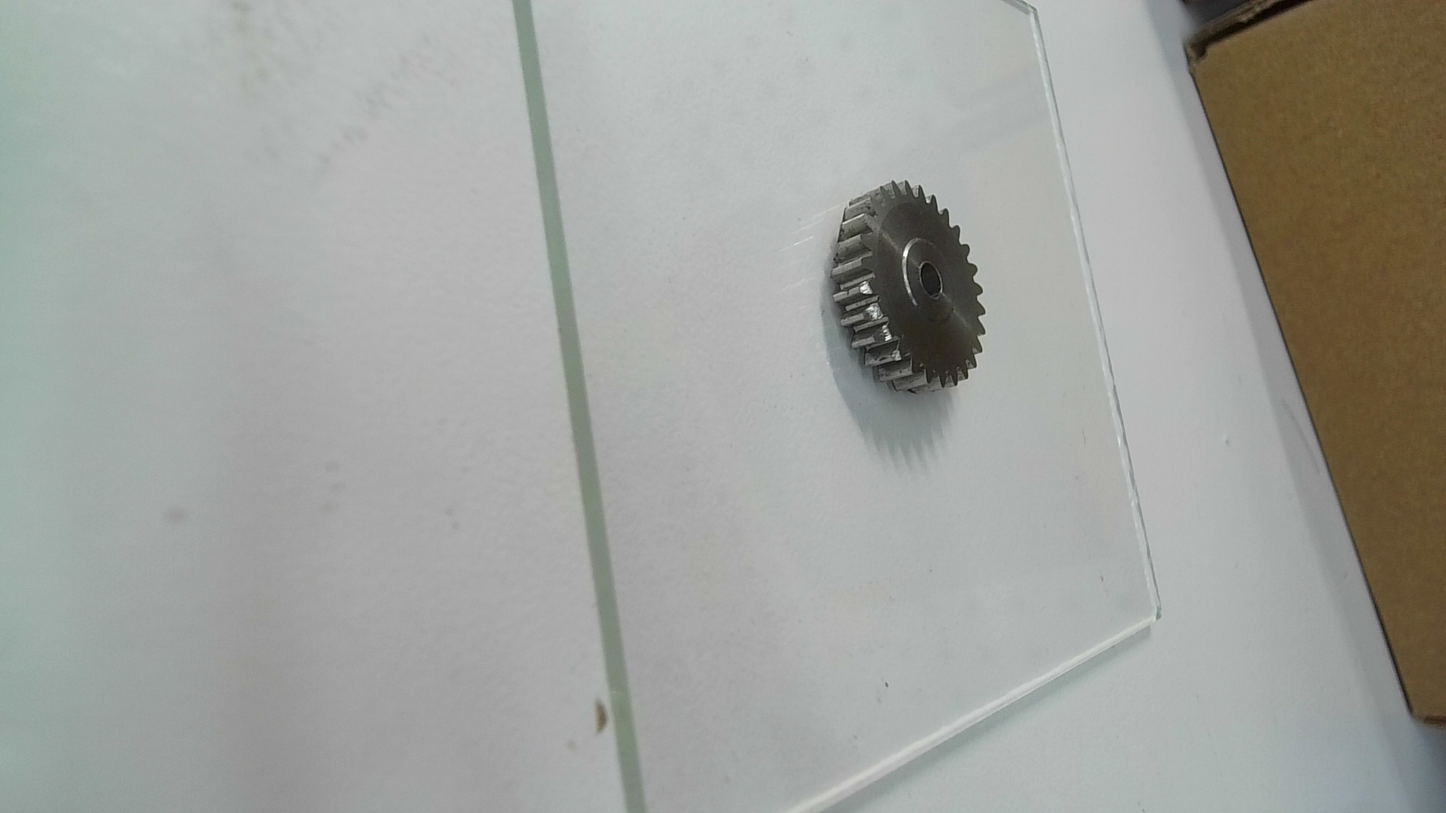gear: (833, 177, 988, 400)
